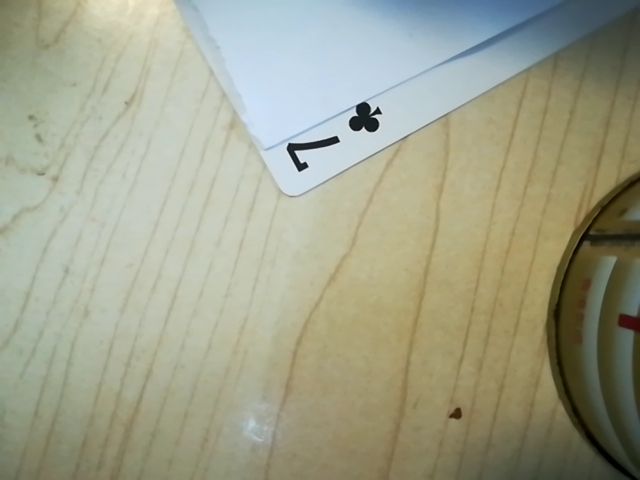mh 7: (273, 98, 399, 182)
